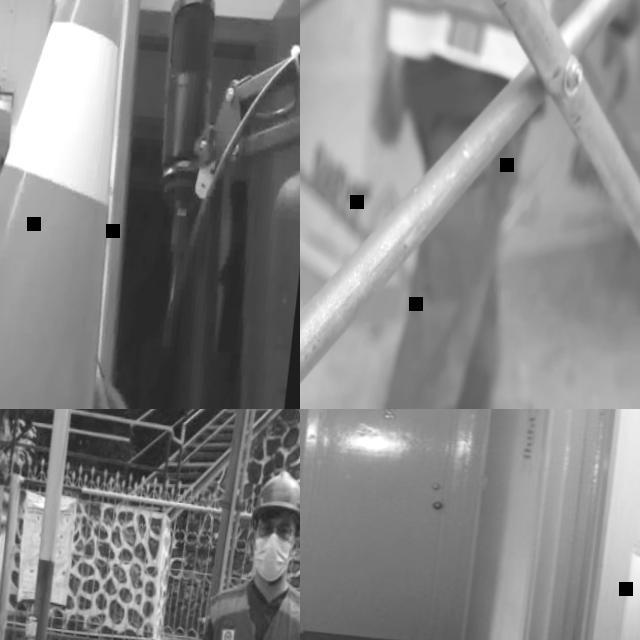helmet: (249, 467, 300, 520)
vest: (380, 0, 579, 80), (194, 574, 300, 640)
